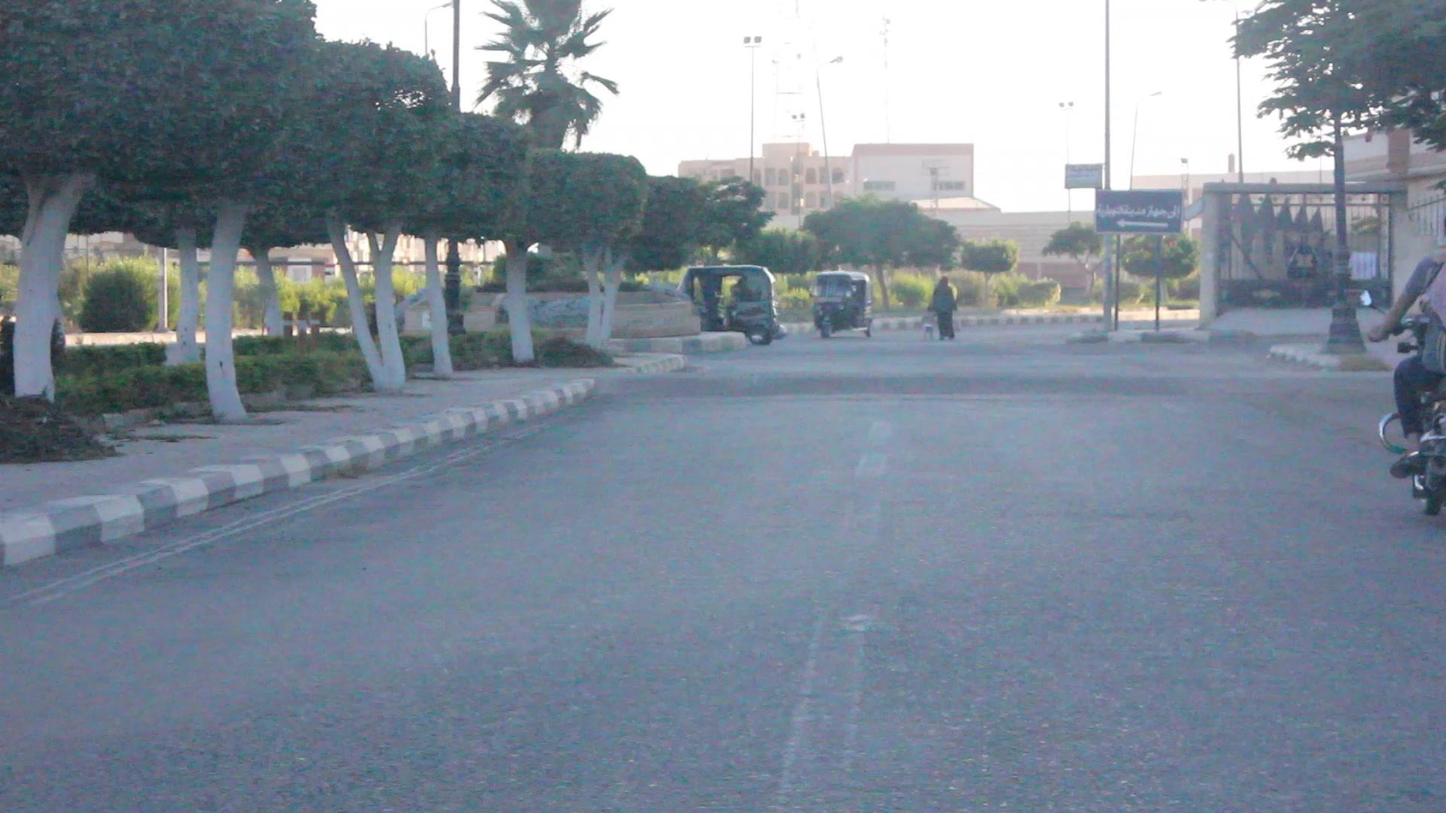Bump: (584, 363, 1327, 399)
